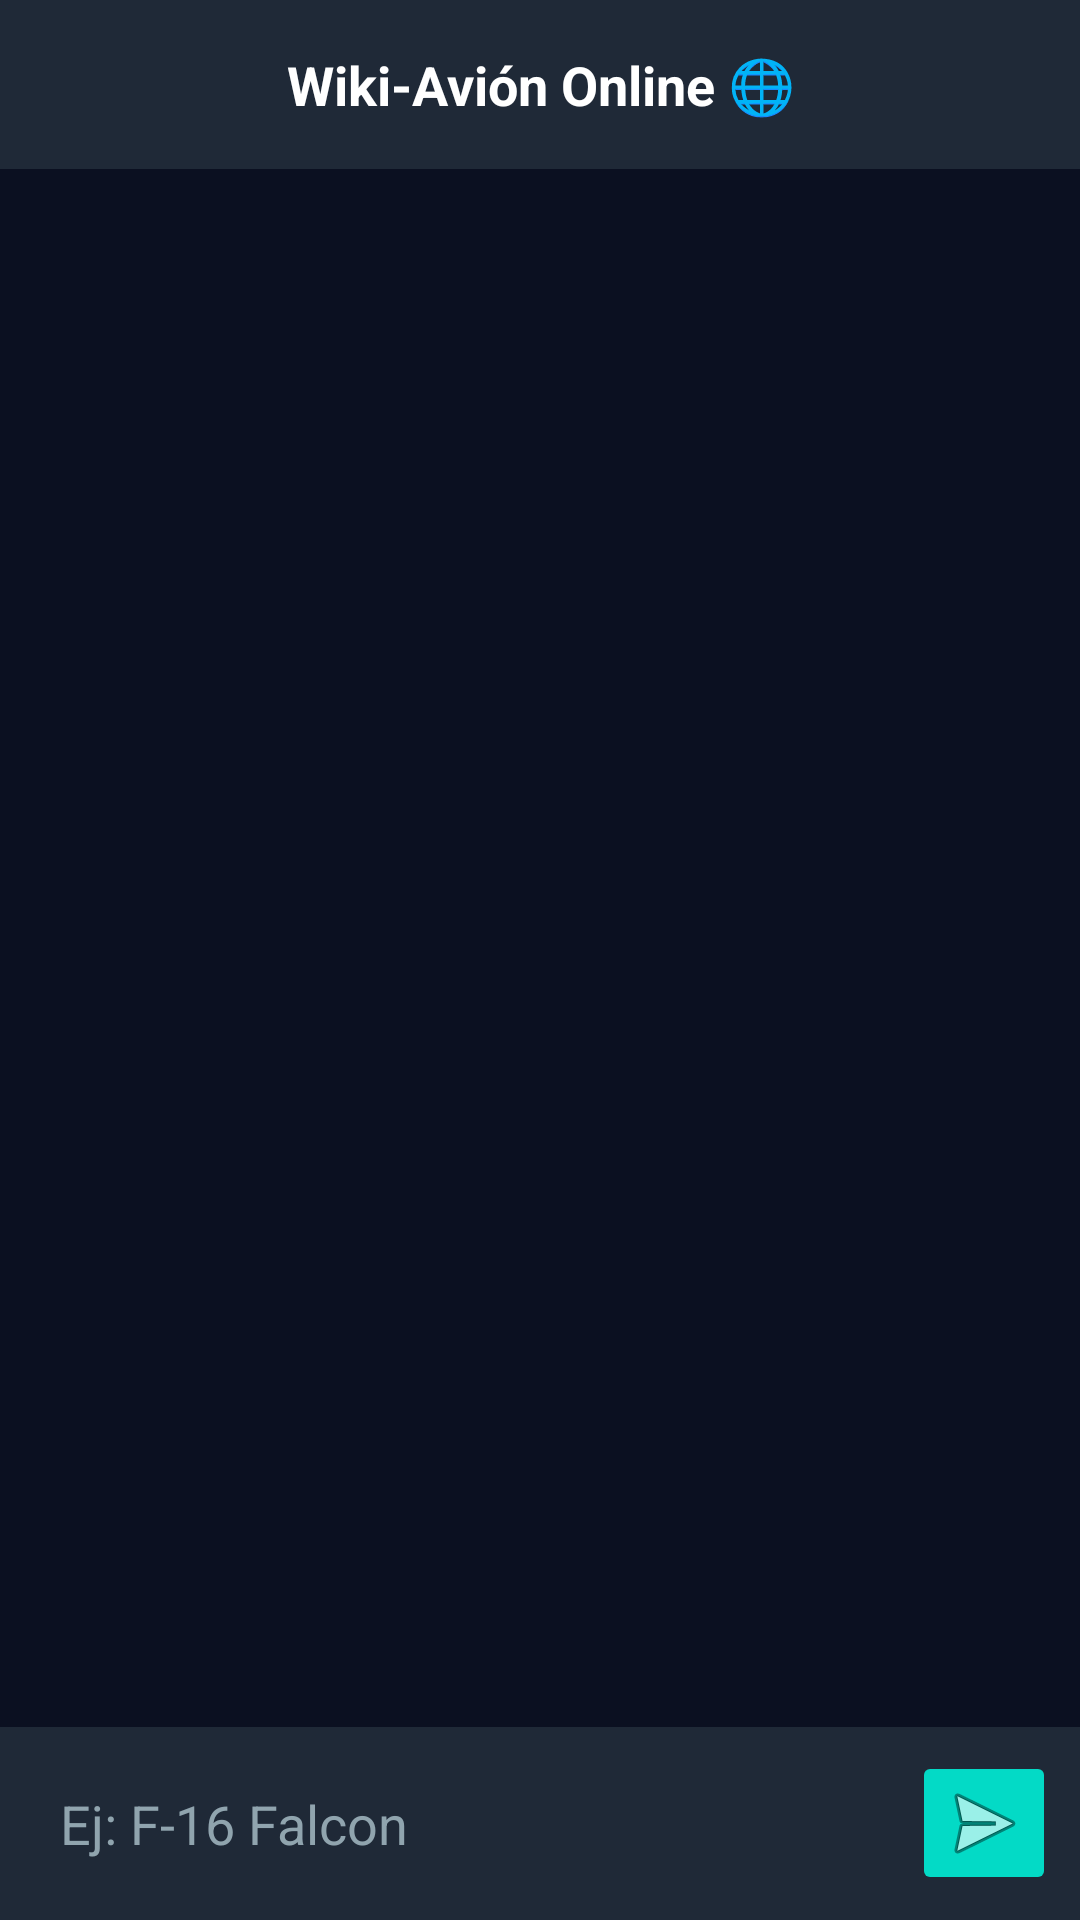

Screen size 1080px x 1920px. Icon name, then its box in pixels as (x1, y1, x2, y2):
Enviar: (924, 1769, 1044, 1877)
